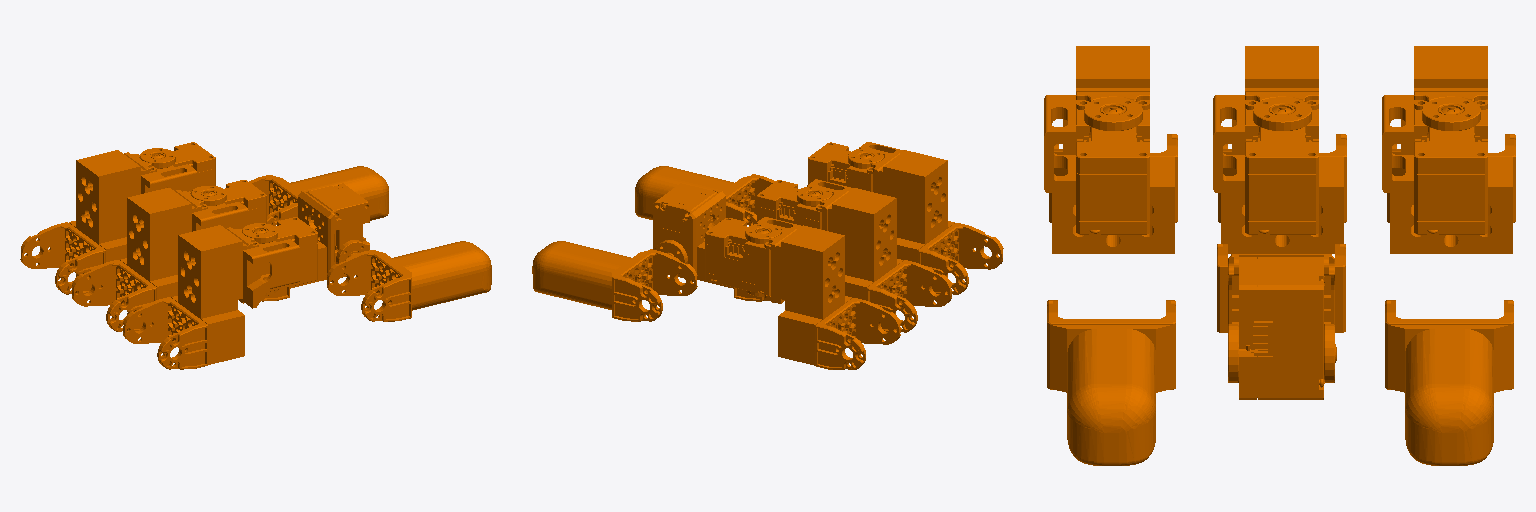
robot.urdf — onshape:
<robot name="onshape">
  <link name="palm_lower">
    <inertial>
      <origin xyz="0.0 0.0 0.0" rpy="0.0 -0.0 0.0"/>
      <mass value="0.237"/>
      <inertia ixx="0.000354094" ixy="-1.193e-06" ixz="-2.445e-06" iyy="0.000260915" iyz="-2.905e-06" izz="0.000529257"/>
    </inertial>
    <visual>
      <geometry>
        <mesh filename="../assets/leap/leap_hand/palm_lower.stl"/>
      </geometry>
      <origin xyz="-0.020095249652862544 0.025757756134899473 -0.034722403578460216" rpy="0.0 -0.0 0.0"/>
      <material name="palm_lower_material">
        <color rgba="0.6039215686274509 0.14901960784313725 0.14901960784313725 1.0"/>
      </material>
    </visual>
    <collision>
      <geometry>
        <mesh filename="../assets/leap/leap_hand/palm_lower.stl"/>
      </geometry>
      <origin xyz="-0.020095249652862544 0.025757756134899473 -0.034722403578460216" rpy="0.0 -0.0 0.0"/>
    </collision>
  </link>
  <link name="mcp_joint_long">
    <inertial>
      <origin xyz="0.0 0.0 0.0" rpy="0.0 -0.0 0.0"/>
      <mass value="0.044"/>
      <inertia ixx="1.1499e-05" ixy="3.049e-06" ixz="1.21e-07" iyy="7.796e-06" iyz="1.12e-07" izz="1.4759e-05"/>
    </inertial>
    <visual>
      <geometry>
        <mesh filename="custom_models/mcp_joint_long.stl"/>
      </geometry>
      <origin xyz="0.008406902261174496 0.0077662438597169954 0.014657354985032912" rpy="1.6375789613221e-15 -1.021047330249102e-30 1.7177968783327987e-31"/>
      <material name="mcp_joint_material">
        <color rgba="0.878 0.467 0.0 1.0"/>
      </material>
    </visual>
    <collision>
      <geometry>
        <mesh filename="custom_models/mcp_joint_long.stl"/>
      </geometry>
      <origin xyz="0.008406902261174496 0.0077662438597169954 0.014657354985032912" rpy="1.6375789613221e-15 -1.021047330249102e-30 1.7177968783327987e-31"/>
    </collision>
  </link>
  <link name="pip">
    <inertial>
      <origin xyz="0.0 0.0 0.0" rpy="0.0 -0.0 0.0"/>
      <mass value="0.032"/>
      <inertia ixx="4.798e-06" ixy="1.2e-08" ixz="4e-09" iyy="2.862e-06" iyz="1.1e-08" izz="4.234e-06"/>
    </inertial>
    <visual>
      <geometry>
        <mesh filename="../assets/leap/leap_hand/pip.stl"/>
      </geometry>
      <origin xyz="0.009643363092271328 0.0002999999999999895 0.0007840340104173765" rpy="-1.5707963267948966 -1.5707963267948963 0.0"/>
      <material name="pip_material">
        <color rgba="0.7490196078431373 0.7490196078431373 0.7490196078431373 1.0"/>
      </material>
    </visual>
    <collision>
      <geometry>
        <mesh filename="../assets/leap/leap_hand/pip.stl"/>
      </geometry>
      <origin xyz="0.009643363092271328 0.0002999999999999895 0.0007840340104173765" rpy="-1.5707963267948966 -1.5707963267948963 0.0"/>
    </collision>
  </link>
  <link name="dip">
    <inertial>
      <origin xyz="0.0 0.0 0.0" rpy="0.0 -0.0 0.0"/>
      <mass value="0.037"/>
      <inertia ixx="5.542e-06" ixy="-6.07e-07" ixz="-1.7e-08" iyy="5.727e-06" iyz="-2.3e-08" izz="6.682e-06"/>
    </inertial>
    <visual>
      <geometry>
        <mesh filename="../assets/leap/leap_hand/dip.stl"/>
      </geometry>
      <origin xyz="0.021133352895225003 -0.00843211914670488 0.00978508816209524" rpy="-3.141592653589793 4.507511124216441e-32 4.439548105392361e-32"/>
      <material name="dip_material">
        <color rgba="0.8666666666666667 0.8666666666666667 0.050980392156862744 1.0"/>
      </material>
    </visual>
    <collision>
      <geometry>
        <mesh filename="../assets/leap/leap_hand/dip.stl"/>
      </geometry>
      <origin xyz="0.021133352895225003 -0.00843211914670488 0.00978508816209524" rpy="-3.141592653589793 4.507511124216441e-32 4.439548105392361e-32"/>
    </collision>
  </link>
  <link name="fingertip_long">
    <inertial>
      <origin xyz="0.0 0.0 0.0" rpy="0.0 -0.0 0.0"/>
      <mass value="0.016"/>
      <inertia ixx="3.368e-06" ixy="1.15e-07" ixz="0.0" iyy="1.556e-06" iyz="0.0" izz="2.863e-06"/>
    </inertial>
    <visual>
      <geometry>
        <mesh filename="custom_models/fingertip_long.stl"/>
      </geometry>
      <origin xyz="0.013286424108533503 -0.006114238386541987 0.014499999999999498" rpy="3.141592653589793 1.1993117970061735e-33 4.439548105392361e-32"/>
      <material name="fingertip_material">
        <color rgba="0.878 0.467 0.0 1.0"/>
      </material>
    </visual>
    <collision>
      <geometry>
        <mesh filename="custom_models/fingertip_long.stl"/>
      </geometry>
      <origin xyz="0.013286424108533503 -0.006114238386541987 0.014499999999999498" rpy="3.141592653589793 1.1993117970061735e-33 4.439548105392361e-32"/>
    </collision>
  </link>
  <link name="pip_4">
    <inertial>
      <origin xyz="0.0 0.0 0.0" rpy="0.0 -0.0 0.0"/>
      <mass value="0.032"/>
      <inertia ixx="4.798e-06" ixy="1.2e-08" ixz="4e-09" iyy="2.862e-06" iyz="1.1e-08" izz="4.234e-06"/>
    </inertial>
    <visual>
      <geometry>
        <mesh filename="../assets/leap/leap_hand/pip.stl"/>
      </geometry>
      <origin xyz="-0.005356636907728671 0.0002999999999999999 0.0007840340104173782" rpy="-1.5707963267948966 -1.5707963267948963 0.0"/>
      <material name="pip_material">
        <color rgba="0.7490196078431373 0.7490196078431373 0.7490196078431373 1.0"/>
      </material>
    </visual>
    <collision>
      <geometry>
        <mesh filename="../assets/leap/leap_hand/pip.stl"/>
      </geometry>
      <origin xyz="-0.005356636907728671 0.0002999999999999999 0.0007840340104173782" rpy="-1.5707963267948966 -1.5707963267948963 0.0"/>
    </collision>
  </link>
  <link name="thumb_pip">
    <inertial>
      <origin xyz="0.0 0.0 0.0" rpy="0.0 -0.0 0.0"/>
      <mass value="0.003"/>
      <inertia ixx="5.93e-07" ixy="0.0" ixz="0.0" iyy="5.49e-07" iyz="0.0" izz="2.24e-07"/>
    </inertial>
    <visual>
      <geometry>
        <mesh filename="../assets/leap/leap_hand/thumb_pip.stl"/>
      </geometry>
      <origin xyz="0.011961920770611187 -5.30825383648903e-16 -0.0158526489566642" rpy="1.5707963267948966 1.6050198443300153e-46 -3.9204996250525193e-59"/>
      <material name="thumb_pip_material">
        <color rgba="0.8666666666666667 0.8666666666666667 0.050980392156862744 1.0"/>
      </material>
    </visual>
    <collision>
      <geometry>
        <mesh filename="../assets/leap/leap_hand/thumb_pip.stl"/>
      </geometry>
      <origin xyz="0.011961920770611187 -5.30825383648903e-16 -0.0158526489566642" rpy="1.5707963267948966 1.6050198443300153e-46 -3.9204996250525193e-59"/>
    </collision>
  </link>
  <link name="thumb_dip">
    <inertial>
      <origin xyz="0.0 0.0 0.0" rpy="0.0 -0.0 0.0"/>
      <mass value="0.038"/>
      <inertia ixx="8.474e-06" ixy="2.41e-07" ixz="2.6e-08" iyy="3.841e-06" iyz="2.5e-08" izz="7.679e-06"/>
    </inertial>
    <visual>
      <geometry>
        <mesh filename="../assets/leap/leap_hand/thumb_dip.stl"/>
      </geometry>
      <origin xyz="0.043968715707239175 0.0579529529737092 -0.008628676449369476" rpy="1.94289029309401e-16 3.27515792264422e-15 1.112375852965736e-46"/>
      <material name="thumb_dip_material">
        <color rgba="0.8666666666666667 0.8666666666666667 0.050980392156862744 1.0"/>
      </material>
    </visual>
    <collision>
      <geometry>
        <mesh filename="../assets/leap/leap_hand/thumb_dip.stl"/>
      </geometry>
      <origin xyz="0.043968715707239175 0.0579529529737092 -0.008628676449369476" rpy="1.94289029309401e-16 3.27515792264422e-15 1.112375852965736e-46"/>
    </collision>
  </link>
  <link name="thumb_fingertip">
    <inertial>
      <origin xyz="0.0 0.0 0.0" rpy="0.0 -0.0 0.0"/>
      <mass value="0.049"/>
      <inertia ixx="2.0372e-05" ixy="-4.89e-07" ixz="-3e-08" iyy="4.336e-06" iyz="-9.7e-08" izz="1.9845e-05"/>
    </inertial>
    <visual>
      <geometry>
        <mesh filename="../assets/leap/leap_hand/thumb_fingertip.stl"/>
      </geometry>
      <origin xyz="0.06255953846266739 0.07845968291139699 0.048992911807332215" rpy="4.379057701015637e-47 -3.33066907387547e-16 1.2042408677791935e-46"/>
      <material name="thumb_fingertip_material">
        <color rgba="0.6039215686274509 0.14901960784313725 0.14901960784313725 1.0"/>
      </material>
    </visual>
    <collision>
      <geometry>
        <mesh filename="../assets/leap/leap_hand/thumb_fingertip.stl"/>
      </geometry>
      <origin xyz="0.06255953846266739 0.07845968291139699 0.048992911807332215" rpy="4.379057701015637e-47 -3.33066907387547e-16 1.2042408677791935e-46"/>
    </collision>
  </link>
  <link name="mcp_joint_2_long">
    <inertial>
      <origin xyz="0.0 0.0 0.0" rpy="0.0 -0.0 0.0"/>
      <mass value="0.044"/>
      <inertia ixx="1.1499e-05" ixy="3.049e-06" ixz="1.21e-07" iyy="7.796e-06" iyz="1.12e-07" izz="1.4759e-05"/>
    </inertial>
    <visual>
      <geometry>
        <mesh filename="custom_models/mcp_joint_long.stl"/>
      </geometry>
      <origin xyz="0.008406902261174496 0.0077662438597169954 0.014657354985032914" rpy="1.6375789613221e-15 -1.0076465469034e-30 2.1209300131419907e-61"/>
      <material name="mcp_joint_material">
        <color rgba="0.878 0.467 0.0 1.0"/>
      </material>
    </visual>
    <collision>
      <geometry>
        <mesh filename="custom_models/mcp_joint_long.stl"/>
      </geometry>
      <origin xyz="0.008406902261174496 0.0077662438597169954 0.014657354985032914" rpy="1.6375789613221e-15 -1.0076465469034e-30 2.1209300131419907e-61"/>
    </collision>
  </link>
  <link name="pip_2">
    <inertial>
      <origin xyz="0.0 0.0 0.0" rpy="0.0 -0.0 0.0"/>
      <mass value="0.032"/>
      <inertia ixx="4.798e-06" ixy="1.2e-08" ixz="4e-09" iyy="2.862e-06" iyz="1.1e-08" izz="4.234e-06"/>
    </inertial>
    <visual>
      <geometry>
        <mesh filename="../assets/leap/leap_hand/pip.stl"/>
      </geometry>
      <origin xyz="0.009643363092271328 0.0002999999999999947 0.0007840340104173765" rpy="-1.5707963267948966 -1.5707963267948963 0.0"/>
      <material name="pip_material">
        <color rgba="0.7490196078431373 0.7490196078431373 0.7490196078431373 1.0"/>
      </material>
    </visual>
    <collision>
      <geometry>
        <mesh filename="../assets/leap/leap_hand/pip.stl"/>
      </geometry>
      <origin xyz="0.009643363092271328 0.0002999999999999947 0.0007840340104173765" rpy="-1.5707963267948966 -1.5707963267948963 0.0"/>
    </collision>
  </link>
  <link name="dip_2_long">
    <inertial>
      <origin xyz="0.0 0.0 0.0" rpy="0.0 -0.0 0.0"/>
      <mass value="0.037"/>
      <inertia ixx="5.542e-06" ixy="-6.07e-07" ixz="-1.7e-08" iyy="5.727e-06" iyz="-2.3e-08" izz="6.682e-06"/>
    </inertial>
    <visual>
      <geometry>
        <mesh filename="custom_models/dip_long.stl"/>
      </geometry>
      <origin xyz="0.021133352895225003 -0.008432119146704865 0.009785088162095237" rpy="-3.141592653589793 2.1146933785271956e-32 1.4408183216511869e-31"/>
      <material name="dip_material">
        <color rgba="0.878 0.467 0.0 1.0"/>
      </material>
    </visual>
    <collision>
      <geometry>
        <mesh filename="custom_models/dip_long.stl"/>
      </geometry>
      <origin xyz="0.021133352895225003 -0.008432119146704865 0.009785088162095237" rpy="-3.141592653589793 2.1146933785271956e-32 1.4408183216511869e-31"/>
    </collision>
  </link>
  <link name="fingertip_2">
    <inertial>
      <origin xyz="0.0 0.0 0.0" rpy="0.0 -0.0 0.0"/>
      <mass value="0.016"/>
      <inertia ixx="3.368e-06" ixy="1.15e-07" ixz="0.0" iyy="1.556e-06" iyz="0.0" izz="2.863e-06"/>
    </inertial>
    <visual>
      <geometry>
        <mesh filename="../assets/leap/leap_hand/fingertip.stl"/>
      </geometry>
      <origin xyz="0.013286424108533496 -0.006114238386542001 0.014499999999999496" rpy="3.141592653589793 -4.317959788283594e-33 1.4408183216511869e-31"/>
      <material name="fingertip_material">
        <color rgba="0.8666666666666667 0.8666666666666667 0.050980392156862744 1.0"/>
      </material>
    </visual>
    <collision>
      <geometry>
        <mesh filename="../assets/leap/leap_hand/fingertip.stl"/>
      </geometry>
      <origin xyz="0.013286424108533496 -0.006114238386542001 0.014499999999999496" rpy="3.141592653589793 -4.317959788283594e-33 1.4408183216511869e-31"/>
    </collision>
  </link>
  <link name="mcp_joint_3_long">
    <inertial>
      <origin xyz="0.0 0.0 0.0" rpy="0.0 -0.0 0.0"/>
      <mass value="0.044"/>
      <inertia ixx="1.1499e-05" ixy="3.049e-06" ixz="1.21e-07" iyy="7.796e-06" iyz="1.12e-07" izz="1.4759e-05"/>
    </inertial>
    <visual>
      <geometry>
        <mesh filename="custom_models/mcp_joint_long.stl"/>
      </geometry>
      <origin xyz="0.0084069022611745 0.007766243859716996 0.014657354985032914" rpy="1.6375789613221e-15 -1.0059504988632627e-30 5.729641584552035e-32"/>
      <material name="mcp_joint_material">
        <color rgba="0.878 0.467 0.0 1.0"/>
      </material>
    </visual>
    <collision>
      <geometry>
        <mesh filename="custom_models/mcp_joint_long.stl"/>
      </geometry>
      <origin xyz="0.0084069022611745 0.007766243859716996 0.014657354985032914" rpy="1.6375789613221e-15 -1.0059504988632627e-30 5.729641584552035e-32"/>
    </collision>
  </link>
  <link name="pip_3">
    <inertial>
      <origin xyz="0.0 0.0 0.0" rpy="0.0 -0.0 0.0"/>
      <mass value="0.032"/>
      <inertia ixx="4.798e-06" ixy="1.2e-08" ixz="4e-09" iyy="2.862e-06" iyz="1.1e-08" izz="4.234e-06"/>
    </inertial>
    <visual>
      <geometry>
        <mesh filename="../assets/leap/leap_hand/pip.stl"/>
      </geometry>
      <origin xyz="0.009643363092271331 0.00029999999999998084 0.0007840340104173765" rpy="-1.5707963267948966 -1.5707963267948963 0.0"/>
      <material name="pip_material">
        <color rgba="0.7490196078431373 0.7490196078431373 0.7490196078431373 1.0"/>
      </material>
    </visual>
    <collision>
      <geometry>
        <mesh filename="../assets/leap/leap_hand/pip.stl"/>
      </geometry>
      <origin xyz="0.009643363092271331 0.00029999999999998084 0.0007840340104173765" rpy="-1.5707963267948966 -1.5707963267948963 0.0"/>
    </collision>
  </link>
  <link name="dip_3">
    <inertial>
      <origin xyz="0.0 0.0 0.0" rpy="0.0 -0.0 0.0"/>
      <mass value="0.037"/>
      <inertia ixx="5.542e-06" ixy="-6.07e-07" ixz="-1.7e-08" iyy="5.727e-06" iyz="-2.3e-08" izz="6.682e-06"/>
    </inertial>
    <visual>
      <geometry>
        <mesh filename="../assets/leap/leap_hand/dip.stl"/>
      </geometry>
      <origin xyz="0.021133352895225006 -0.008432119146704865 0.009785088162095237" rpy="-3.141592653589793 -1.4095651113919093e-33 1.5565411607615035e-32"/>
      <material name="dip_material">
        <color rgba="0.8666666666666667 0.8666666666666667 0.050980392156862744 1.0"/>
      </material>
    </visual>
    <collision>
      <geometry>
        <mesh filename="../assets/leap/leap_hand/dip.stl"/>
      </geometry>
      <origin xyz="0.021133352895225006 -0.008432119146704865 0.009785088162095237" rpy="-3.141592653589793 -1.4095651113919093e-33 1.5565411607615035e-32"/>
    </collision>
  </link>
  <link name="fingertip_3_long">
    <inertial>
      <origin xyz="0.0 0.0 0.0" rpy="0.0 -0.0 0.0"/>
      <mass value="0.016"/>
      <inertia ixx="3.368e-06" ixy="1.15e-07" ixz="0.0" iyy="1.556e-06" iyz="0.0" izz="2.863e-06"/>
    </inertial>
    <visual>
      <geometry>
        <mesh filename="custom_models/fingertip_long.stl"/>
      </geometry>
      <origin xyz="0.013286424108533501 -0.006114238386541987 0.0144999999999995" rpy="3.141592653589793 8.61707169505754e-33 1.5565411607615035e-32"/>
      <material name="fingertip_material">
        <color rgba="0.878 0.467 0.0 1.0"/>
      </material>
    </visual>
    <collision>
      <geometry>
        <mesh filename="custom_models/fingertip_long.stl"/>
      </geometry>
      <origin xyz="0.013286424108533501 -0.006114238386541987 0.0144999999999995" rpy="3.141592653589793 8.61707169505754e-33 1.5565411607615035e-32"/>
    </collision>
  </link>
  <joint name="1" type="revolute">
    <parent link="palm_lower"/>
    <child link="mcp_joint_long"/>
    <origin xyz="-0.007095249652862546 0.023057756134899472 -0.01872240357846022" rpy="1.570796326794895 1.5707963267948946 0.0"/>
    <axis xyz="0.0 0.0 -1.0"/>
    <limit effort="0.95" velocity="8.48" lower="-0.314" upper="2.23"/>
  </joint>
  <joint name="0" type="revolute">
    <parent link="mcp_joint_long"/>
    <child link="pip"/>
    <origin xyz="-0.012200000000000007713 0.053099999999999994982 0.014500000000000000736" rpy="-1.5707963267948966 -1.0065212660796337e-15 1.5707963267948943"/>
    <axis xyz="0.0 0.0 -1.0"/>
    <limit effort="0.95" velocity="8.48" lower="-1.047" upper="1.047"/>
  </joint>
  <joint name="2" type="revolute">
    <parent link="pip"/>
    <child link="dip"/>
    <origin xyz="0.014999999999999968 0.014299999999999905 -0.012999999999999824" rpy="1.570796326794896 -1.5707963267948963 0.0"/>
    <axis xyz="0.0 0.0 -1.0"/>
    <limit effort="0.95" velocity="8.48" lower="-0.506" upper="1.885"/>
  </joint>
  <joint name="3" type="revolute">
    <parent link="dip"/>
    <child link="fingertip_long"/>
    <origin xyz="-4.088058249557269e-09 -0.03610000421036737 0.0002000000000000786" rpy="4.5935029425113685e-17 -2.8730071914463795e-16 4.439548105392361e-32"/>
    <axis xyz="0.0 0.0 -1.0"/>
    <limit effort="0.95" velocity="8.48" lower="-0.366" upper="2.042"/>
  </joint>
  <joint name="12" type="revolute">
    <parent link="palm_lower"/>
    <child link="pip_4"/>
    <origin xyz="-0.06939524965286253 -0.0012422438651005258 -0.021622403578460216" rpy="-8.238176646493942e-17 1.5707963267948957 0.0"/>
    <axis xyz="0.0 0.0 -1.0"/>
    <limit effort="0.95" velocity="8.48" lower="-0.349" upper="2.094"/>
  </joint>
  <joint name="13" type="revolute">
    <parent link="pip_4"/>
    <child link="thumb_pip"/>
    <origin xyz="-2.7755575615628914e-17 0.014300000000000005 -0.013000000000000012" rpy="1.570796326794896 -1.5707963267948963 0.0"/>
    <axis xyz="0.0 0.0 -1.0"/>
    <limit effort="0.95" velocity="8.48" lower="-0.47" upper="2.443"/>
  </joint>
  <joint name="14" type="revolute">
    <parent link="thumb_pip"/>
    <child link="thumb_dip"/>
    <origin xyz="0.0 0.014499999999999966 -0.017000000000000053" rpy="-1.5707963267948966 1.6050198443300131e-46 -1.9721522630516625e-31"/>
    <axis xyz="0.0 0.0 -1.0"/>
    <limit effort="0.95" velocity="8.48" lower="-1.2" upper="1.9"/>
  </joint>
  <joint name="15" type="revolute">
    <parent link="thumb_dip"/>
    <child link="thumb_fingertip"/>
    <origin xyz="-1.249000902703301e-16 0.046599999999999864 0.0001999999999999771" rpy="1.506395849149178e-44 5.423418723393526e-31 3.141592653589793"/>
    <axis xyz="0.0 0.0 -1.0"/>
    <limit effort="0.95" velocity="8.48" lower="-1.34" upper="1.88"/>
  </joint>
  <joint name="5" type="revolute">
    <parent link="palm_lower"/>
    <child link="mcp_joint_2_long"/>
    <origin xyz="-0.007095249652862546 -0.022392243865100525 -0.01872240357846022" rpy="1.570796326794895 1.5707963267948946 0.0"/>
    <axis xyz="0.0 0.0 -1.0"/>
    <limit effort="0.95" velocity="8.48" lower="-0.314" upper="2.23"/>
  </joint>
  <joint name="4" type="revolute">
    <parent link="mcp_joint_2_long"/>
    <child link="pip_2"/>
    <origin xyz="-0.012200000000000007713 0.053099999999999994982 0.014500000000000000736" rpy="-1.5707963267948966 -1.0065212660796337e-15 1.5707963267948943"/>
    <axis xyz="0.0 0.0 -1.0"/>
    <limit effort="0.95" velocity="8.48" lower="-1.047" upper="1.047"/>
  </joint>
  <joint name="6" type="revolute">
    <parent link="pip_2"/>
    <child link="dip_2_long"/>
    <origin xyz="0.014999999999999968 0.014299999999999905 -0.012999999999999824" rpy="1.570796326794896 -1.5707963267948963 0.0"/>
    <axis xyz="0.0 0.0 -1.0"/>
    <limit effort="0.95" velocity="8.48" lower="-0.506" upper="1.885"/>
  </joint>
  <joint name="7" type="revolute">
    <parent link="dip_2_long"/>
    <child link="fingertip_2"/>
    <origin xyz="-4.0880582495572692636e-09 -0.051100004210367367397 0.00020000000000007858714" rpy="4.5935029425113685e-17 -2.8730071914463795e-16 4.439548105392361e-32"/>
    <axis xyz="0.0 0.0 -1.0"/>
    <limit effort="0.95" velocity="8.48" lower="-0.366" upper="2.042"/>
  </joint>
  <joint name="9" type="revolute">
    <parent link="palm_lower"/>
    <child link="mcp_joint_3_long"/>
    <origin xyz="-0.007095249652862546 -0.06784224386510052 -0.01872240357846022" rpy="1.570796326794895 1.5707963267948946 0.0"/>
    <axis xyz="0.0 0.0 -1.0"/>
    <limit effort="0.95" velocity="8.48" lower="-0.314" upper="2.23"/>
  </joint>
  <joint name="8" type="revolute">
    <parent link="mcp_joint_3_long"/>
    <child link="pip_3"/>
    <origin xyz="-0.012200000000000007713 0.053099999999999994982 0.014500000000000000736" rpy="-1.5707963267948966 -1.0065212660796337e-15 1.5707963267948943"/>
    <axis xyz="0.0 0.0 -1.0"/>
    <limit effort="0.95" velocity="8.48" lower="-1.047" upper="1.047"/>
  </joint>
  <joint name="10" type="revolute">
    <parent link="pip_3"/>
    <child link="dip_3"/>
    <origin xyz="0.014999999999999968 0.014299999999999905 -0.012999999999999824" rpy="1.570796326794896 -1.5707963267948963 0.0"/>
    <axis xyz="0.0 0.0 -1.0"/>
    <limit effort="0.95" velocity="8.48" lower="-0.506" upper="1.885"/>
  </joint>
  <joint name="11" type="revolute">
    <parent link="dip_3"/>
    <child link="fingertip_3_long"/>
    <origin xyz="-4.088058249557269e-09 -0.03610000421036737 0.0002000000000000786" rpy="4.5935029425113685e-17 -2.8730071914463795e-16 4.439548105392361e-32"/>
    <axis xyz="0.0 0.0 -1.0"/>
    <limit effort="0.95" velocity="8.48" lower="-0.366" upper="2.042"/>
  </joint>
</robot>

--- Facts derived from the render (not from the file) ---
The picture shows the robot from 3 angles, left to right: view 1: azimuth 30°, elevation 25°; view 2: azimuth 150°, elevation 25°; view 3: azimuth 270°, elevation 25°; orthographic projection.
Model onshape with 17 links and 16 joints (16 revolute), rooted at palm_lower, posed every joint at zero.
Visible links, largest first — view 1: mcp_joint_3_long, mcp_joint_long, mcp_joint_2_long, fingertip_3_long, dip_2_long, fingertip_long; view 2: mcp_joint_long, mcp_joint_2_long, mcp_joint_3_long, fingertip_long, dip_2_long, fingertip_3_long; view 3: mcp_joint_long, mcp_joint_3_long, mcp_joint_2_long, dip_2_long, fingertip_long, fingertip_3_long.
Link boxes in pixels (x1,y1,x2,y2): mcp_joint_3_long: [123, 217, 317, 369]; mcp_joint_long: [20, 142, 215, 294]; mcp_joint_2_long: [72, 180, 266, 331]; fingertip_3_long: [327, 241, 491, 321]; dip_2_long: [262, 183, 369, 301]; fingertip_long: [249, 166, 388, 225]; mcp_joint_long: [705, 217, 900, 369]; mcp_joint_2_long: [757, 179, 951, 332]; mcp_joint_3_long: [808, 142, 1003, 294]; fingertip_long: [532, 241, 697, 321]; dip_2_long: [653, 183, 770, 301]; fingertip_3_long: [635, 166, 775, 225]; mcp_joint_long: [1382, 46, 1515, 253]; mcp_joint_3_long: [1044, 46, 1177, 253]; mcp_joint_2_long: [1213, 46, 1346, 253]; dip_2_long: [1217, 244, 1345, 399]; fingertip_long: [1385, 300, 1513, 465]; fingertip_3_long: [1047, 300, 1175, 465].
Size in the robot's own frame: 0.1766 by 0.1267 by 0.0549 metres.
6 mesh visuals loaded from 10 distinct referenced files (3 binary STL); not drawn: 11 (reference not matched to a file when rendering).